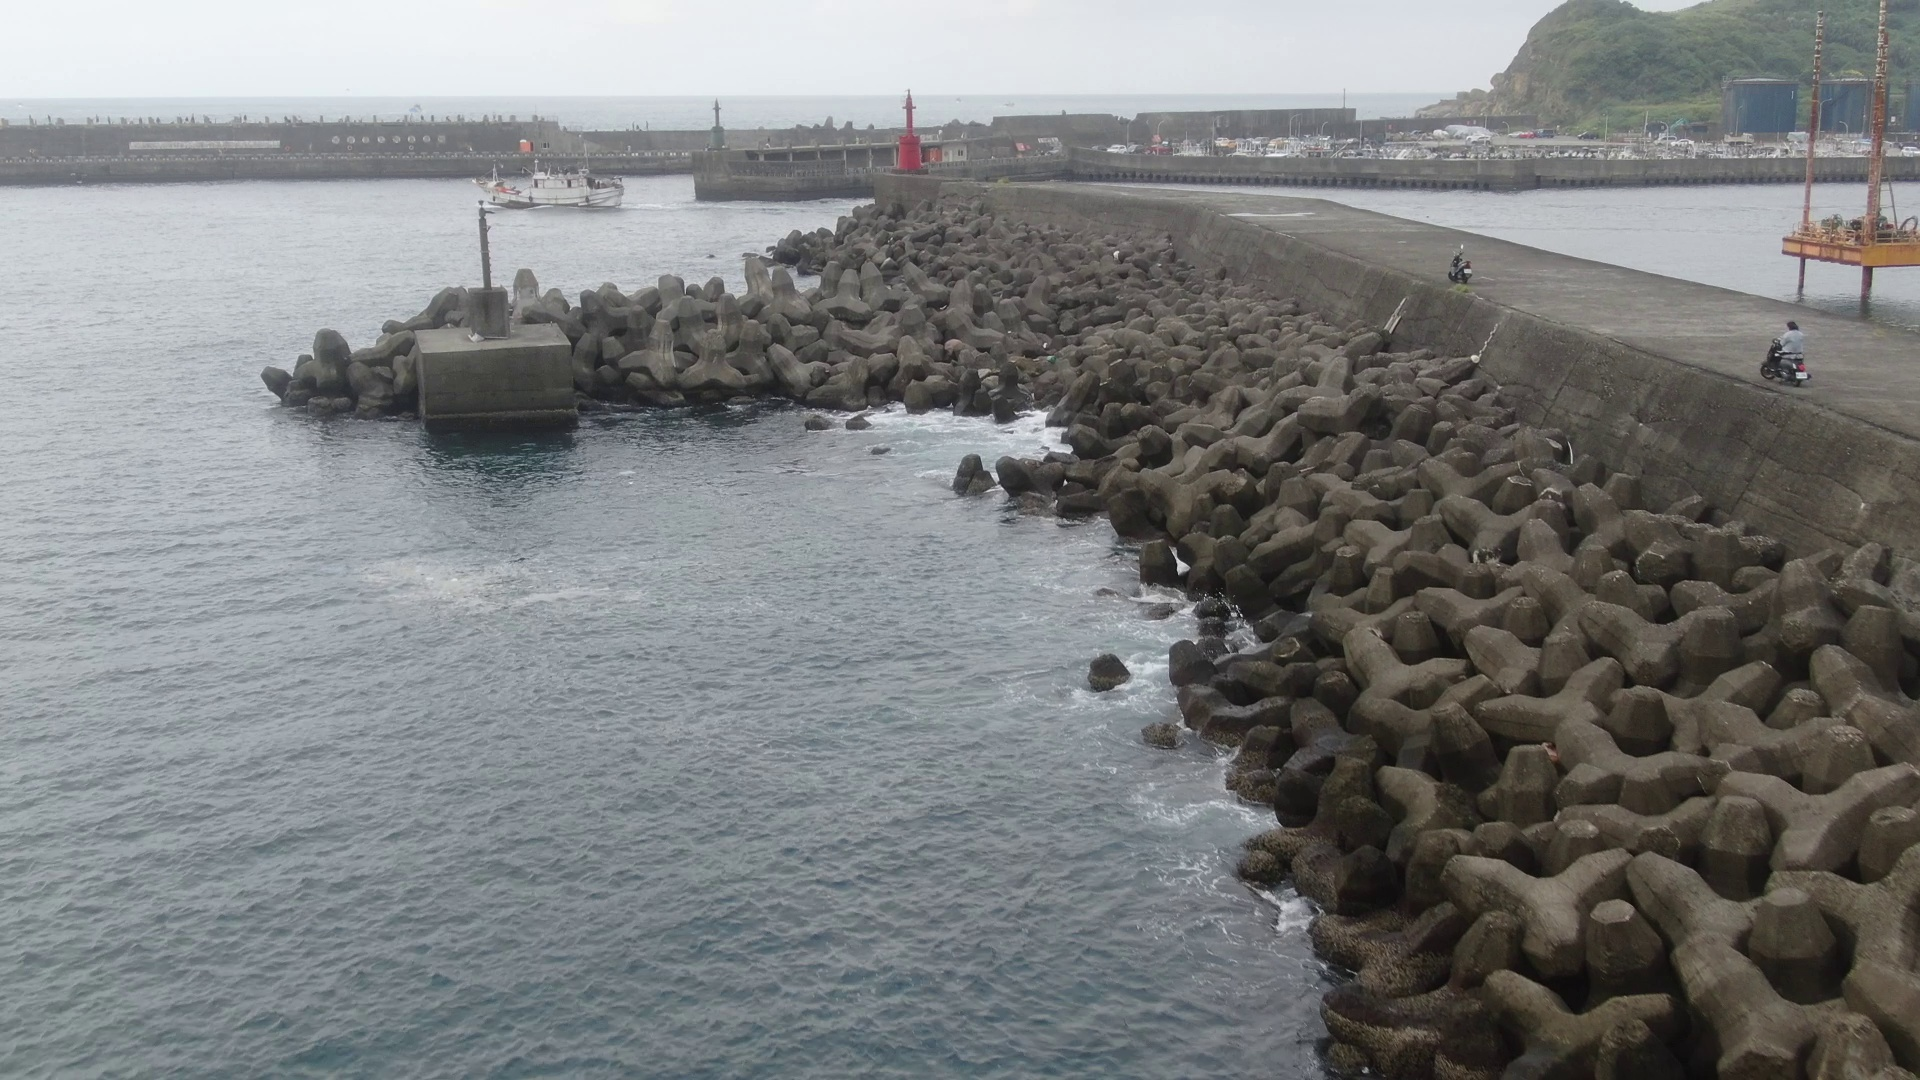garbage: (464, 327, 487, 349)
